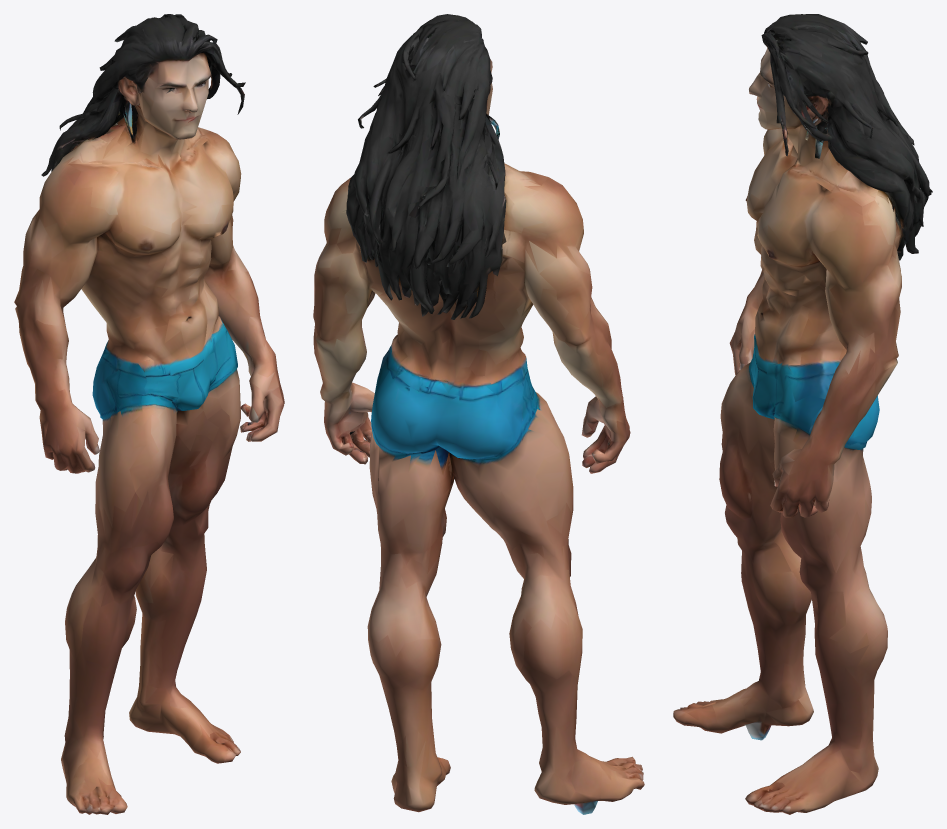
The model's file is beach_lie_m1.glb.
3 views of the same model, side by side, from view 1: azimuth 30°, elevation 25°; view 2: azimuth 150°, elevation 25°; view 3: azimuth 270°, elevation 25° (orthographic). The views are drawn at different scales.
Visible parts, largest first — view 1: beach_lie_m1; view 2: beach_lie_m1; view 3: beach_lie_m1.
Part boxes in pixels (bbox=[...]): beach_lie_m1: bbox=[14, 14, 284, 814]; beach_lie_m1: bbox=[313, 14, 644, 814]; beach_lie_m1: bbox=[673, 14, 932, 814].
Bounding box in the file's own units: 0.663 × 1.8 × 0.5467.
1 material, 1 textured.
